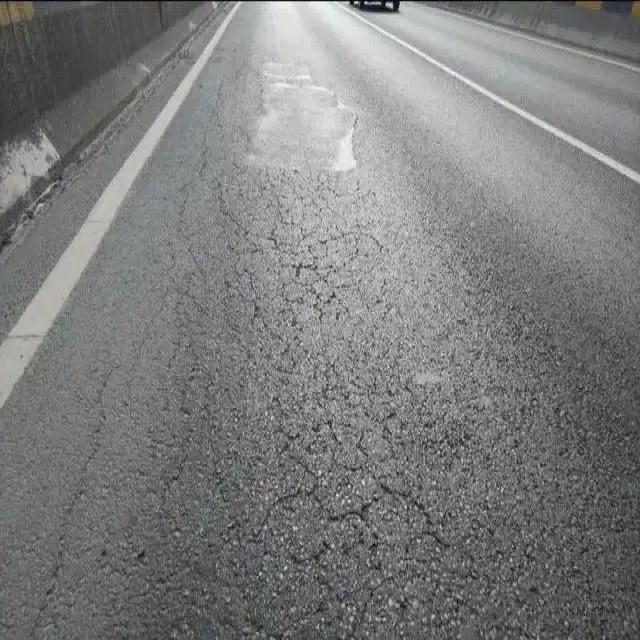Pothole: (248, 60, 361, 180)
